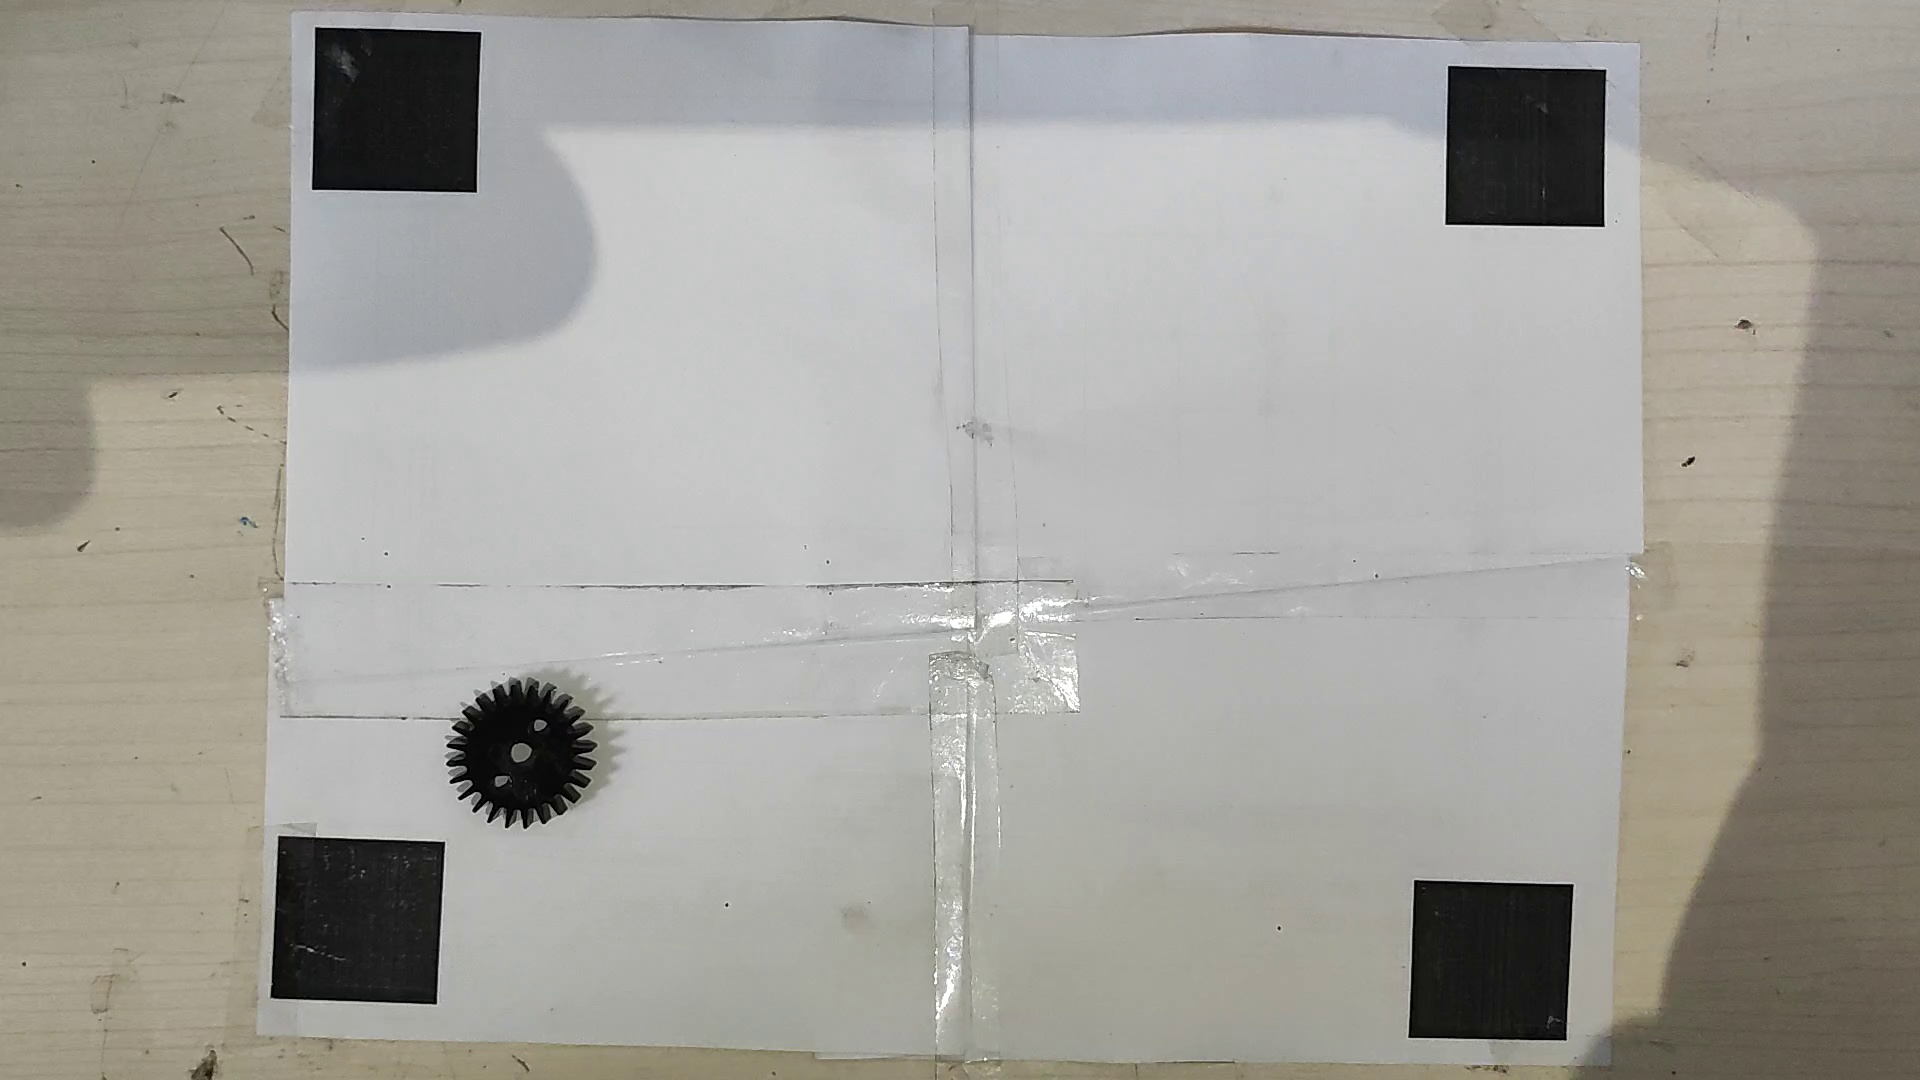Gear: (435, 665, 605, 839)
